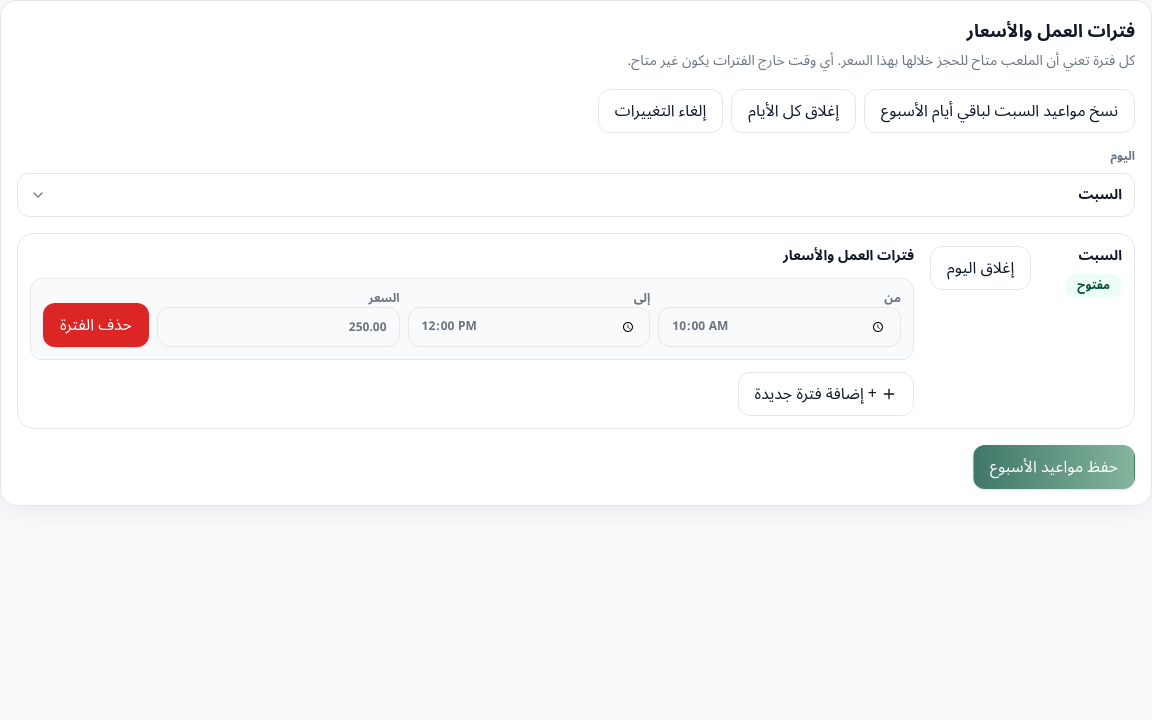
Test: CourtWorkingHoursSection › stays on the page with a success message after saving
expect the button named "اليوم" is shown: met, box [17,173,1135,217]
Click the button "حفظ مواعيد الأسبوع". click: (1054, 467)
box: [973,445,1135,489]
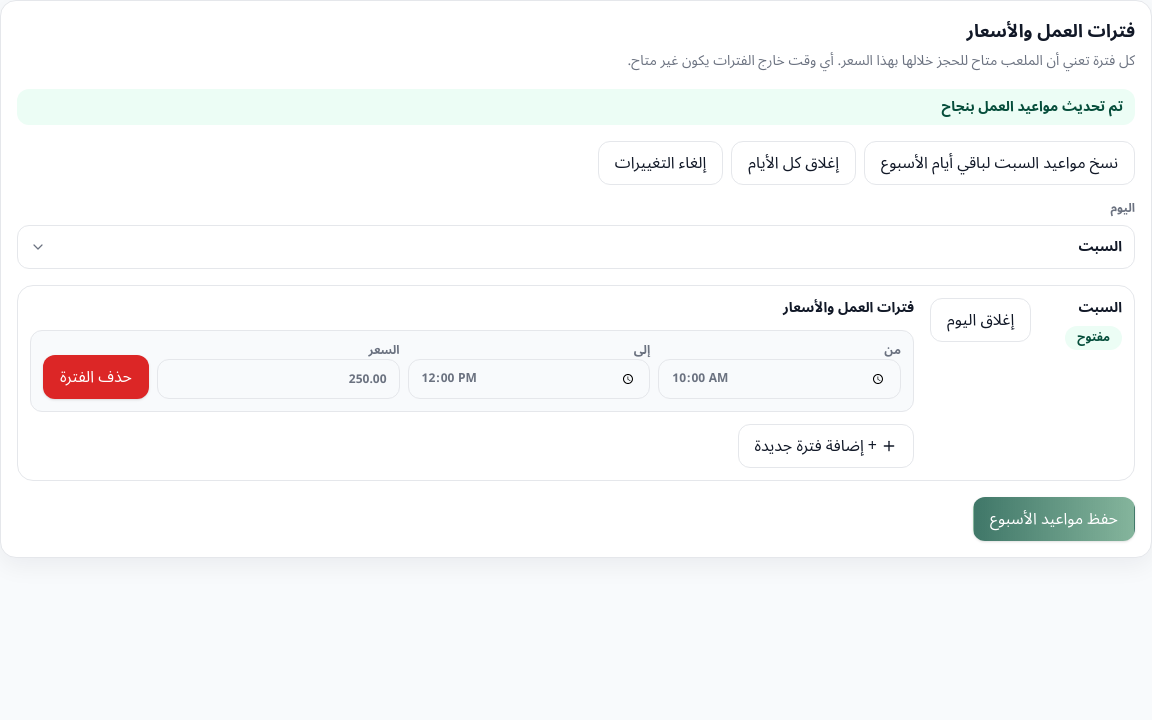
expect the text "تم تحديث مواعيد العمل بنجاح" is shown: met, box [17,89,1135,125]
